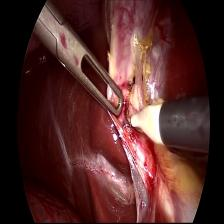Grasper: (43, 0, 125, 118)
Hook: (126, 94, 164, 149)
